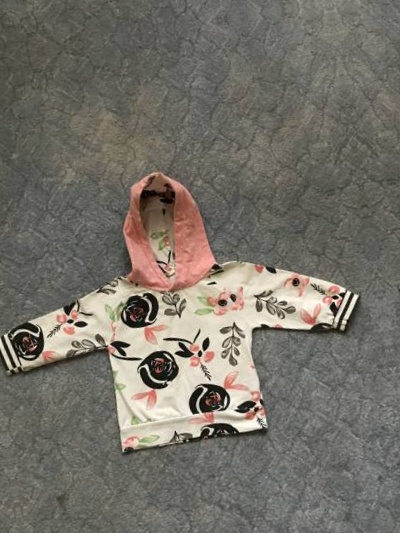Hoodie: (0, 125, 385, 485), (367, 57, 400, 417)
